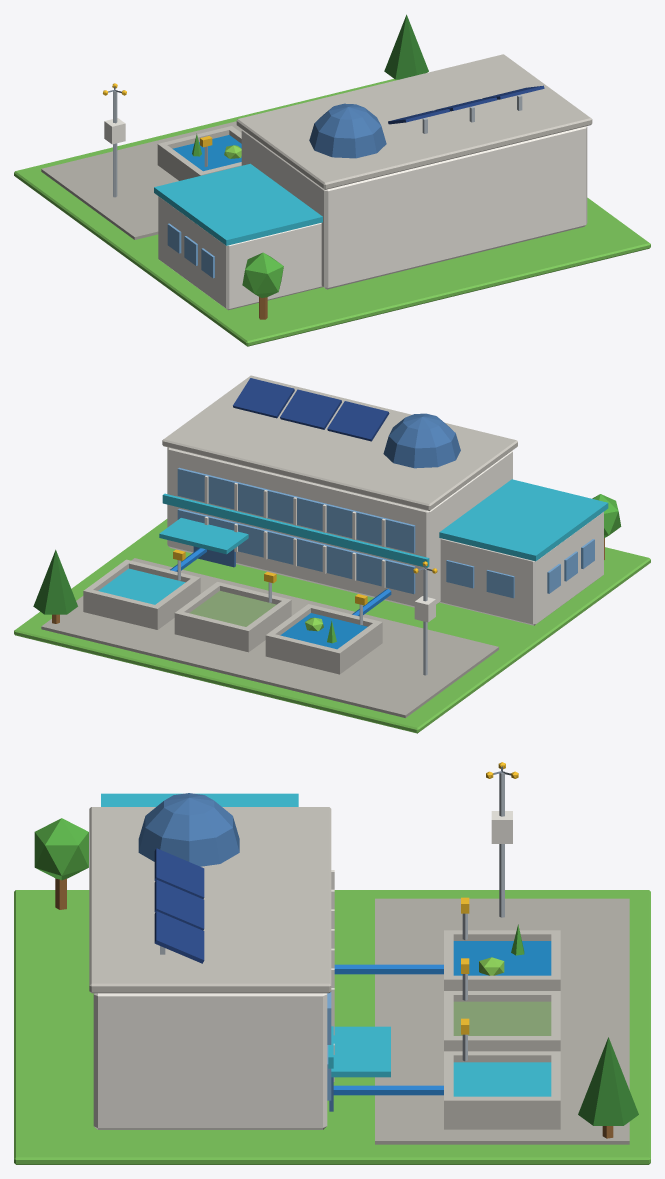
File: water_research_center.glb
The picture shows the model from 3 angles, top to bottom: view 1: azimuth 30°, elevation 25°; view 2: azimuth 150°, elevation 25°; view 3: azimuth 270°, elevation 25°; orthographic projection. The views are drawn at different scales.
Visible parts, largest first — view 1: corpo; view 2: corpo; view 3: corpo.
Part boxes in pixels (<box>): corpo: <box>14,14,650,346</box>; corpo: <box>14,375,650,733</box>; corpo: <box>14,762,650,1164</box>.
Size of the model in its own units: 6 by 2.17 by 6.
